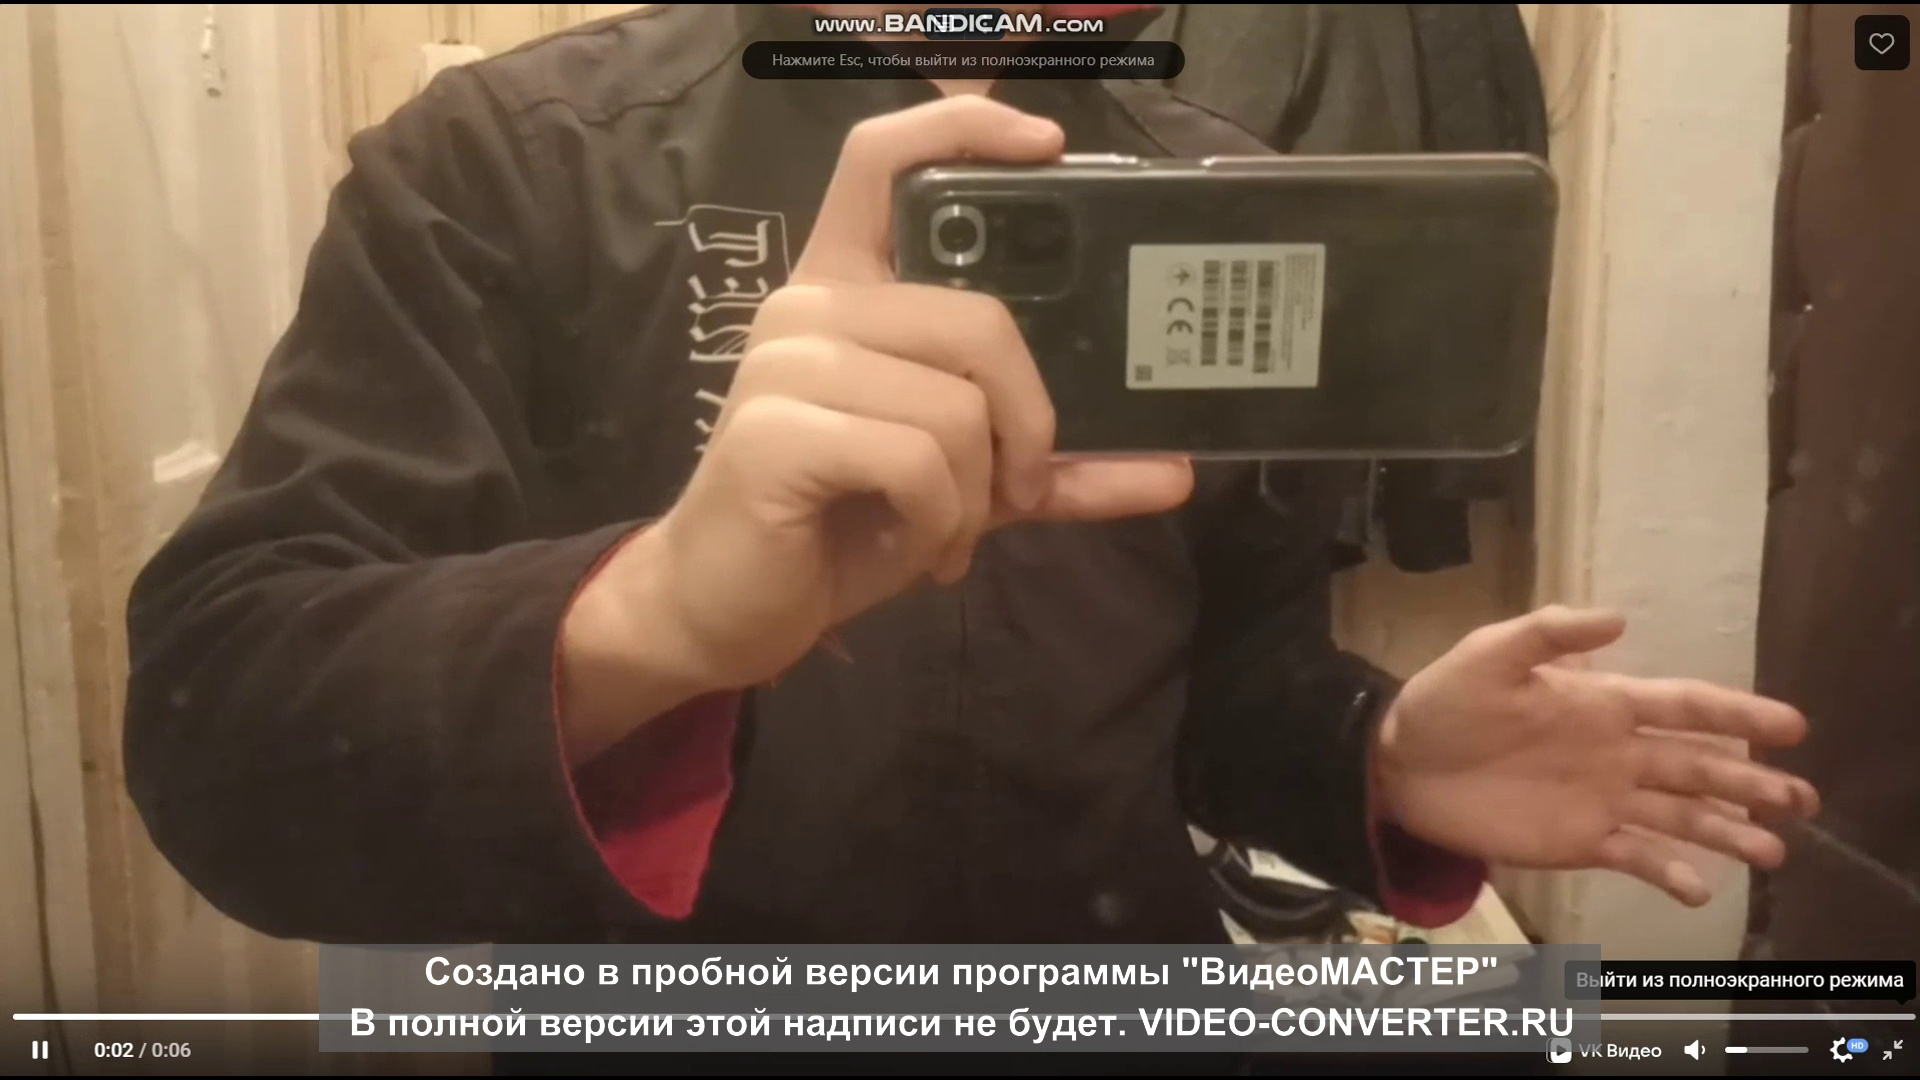Ладонь: (1393, 599, 1820, 913)
